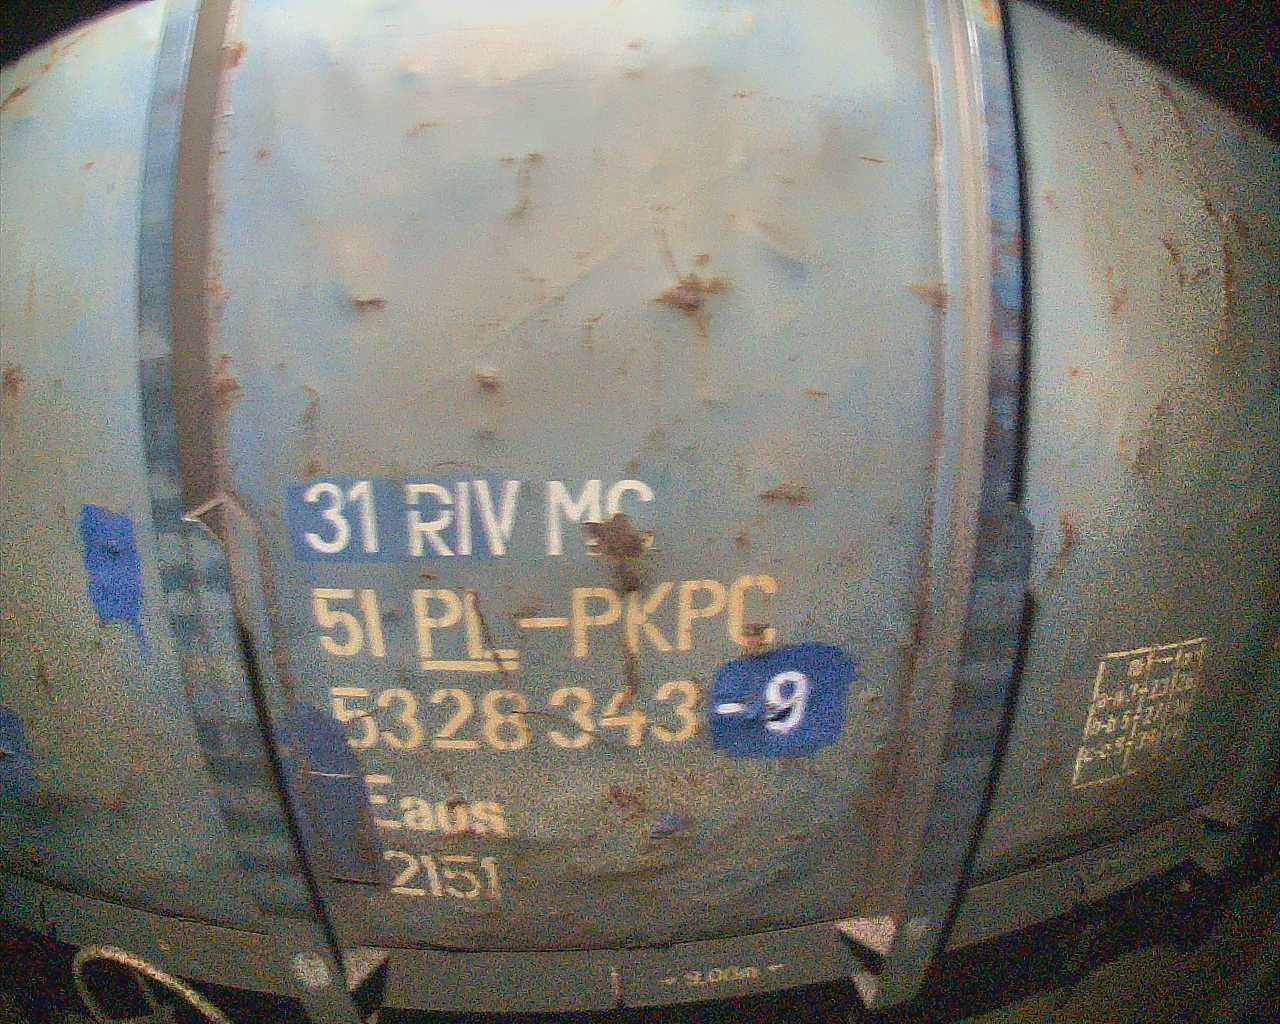UIC: (295, 478, 779, 907)
